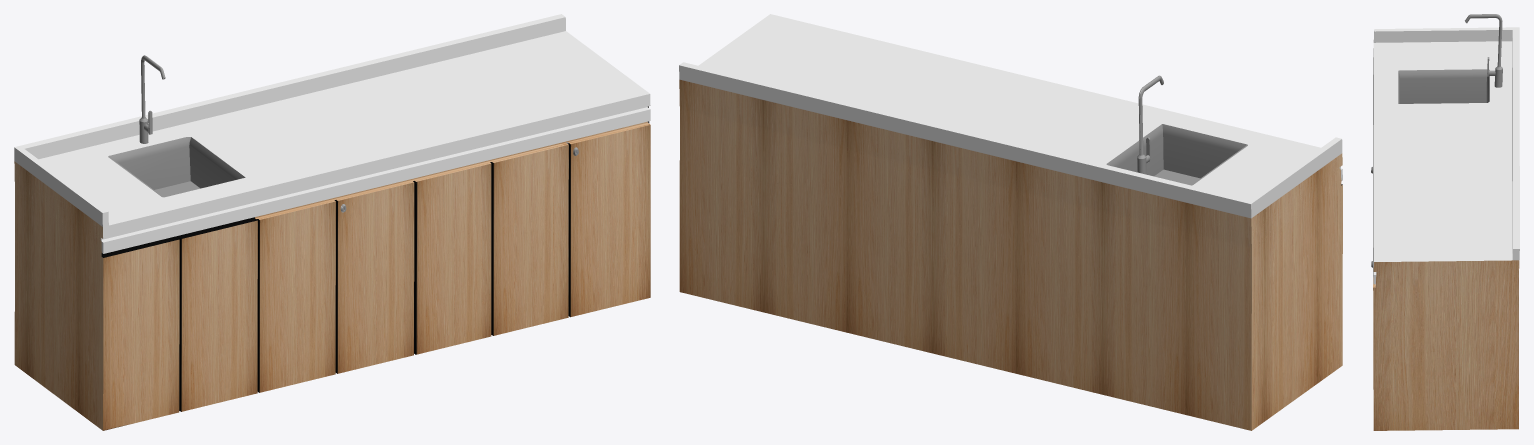
File: lava platos.fbx
3 views of the same model, side by side, from view 1: azimuth 30°, elevation 25°; view 2: azimuth 150°, elevation 25°; view 3: azimuth 270°, elevation 25° (orthographic). The views are drawn at different scales.
Visible parts, largest first — view 1: Cylinder; view 2: Cylinder; view 3: Cylinder.
Boxes of the visible parts, left/top/right/bottom form: Cylinder: left=14, top=14, right=650, bottom=430; Cylinder: left=679, top=14, right=1342, bottom=430; Cylinder: left=1371, top=14, right=1519, bottom=430.
Size of the model in its own units: 272 by 139 by 77.21.
